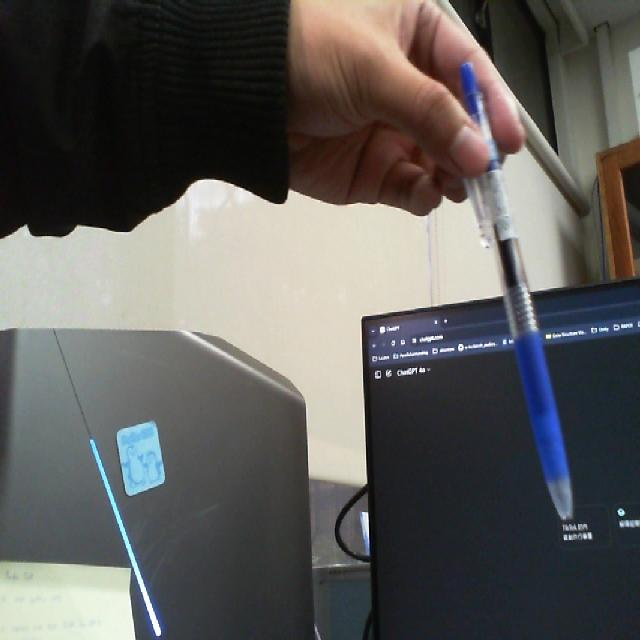Pen: (447, 50, 585, 542)
